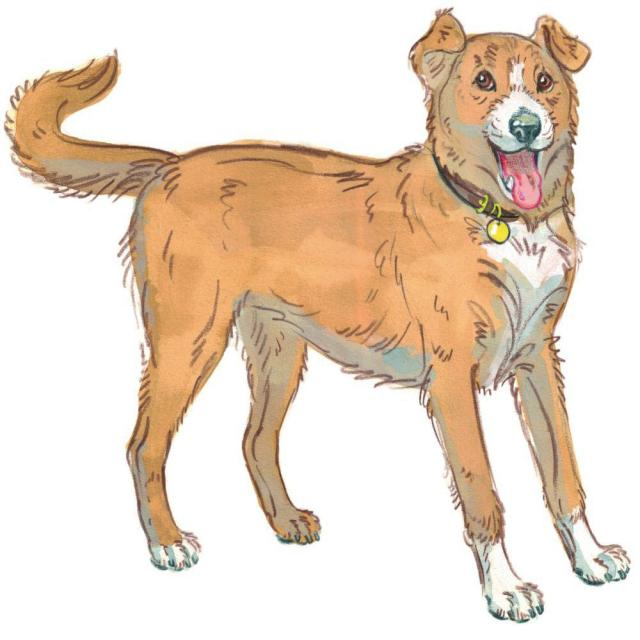dog: (5, 10, 629, 621)
